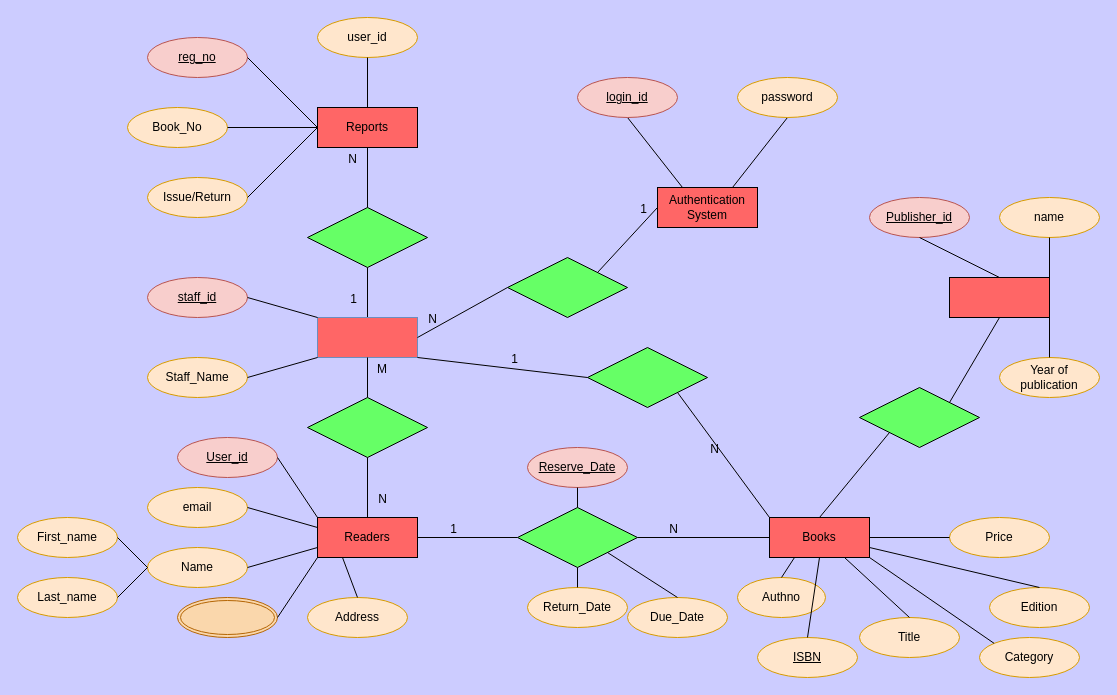
The diagram is 1117 pixels wide and 695 high, and some of its shapes have lost their labels. Here are the shapes that lost their labels. From the top down, the centre of each, then its label:
At [367,237]: "Manages".
At [567,287]: "Login".
At [999,297]: "Publisher".
At [367,337]: "Staff".
At [647,377]: "Maintains".
At [367,427]: "Keeps track of".
At [919,417]: "Publishes".
At [577,537]: "Reserve/Return Date".
At [227,617]: "Phone_no".
